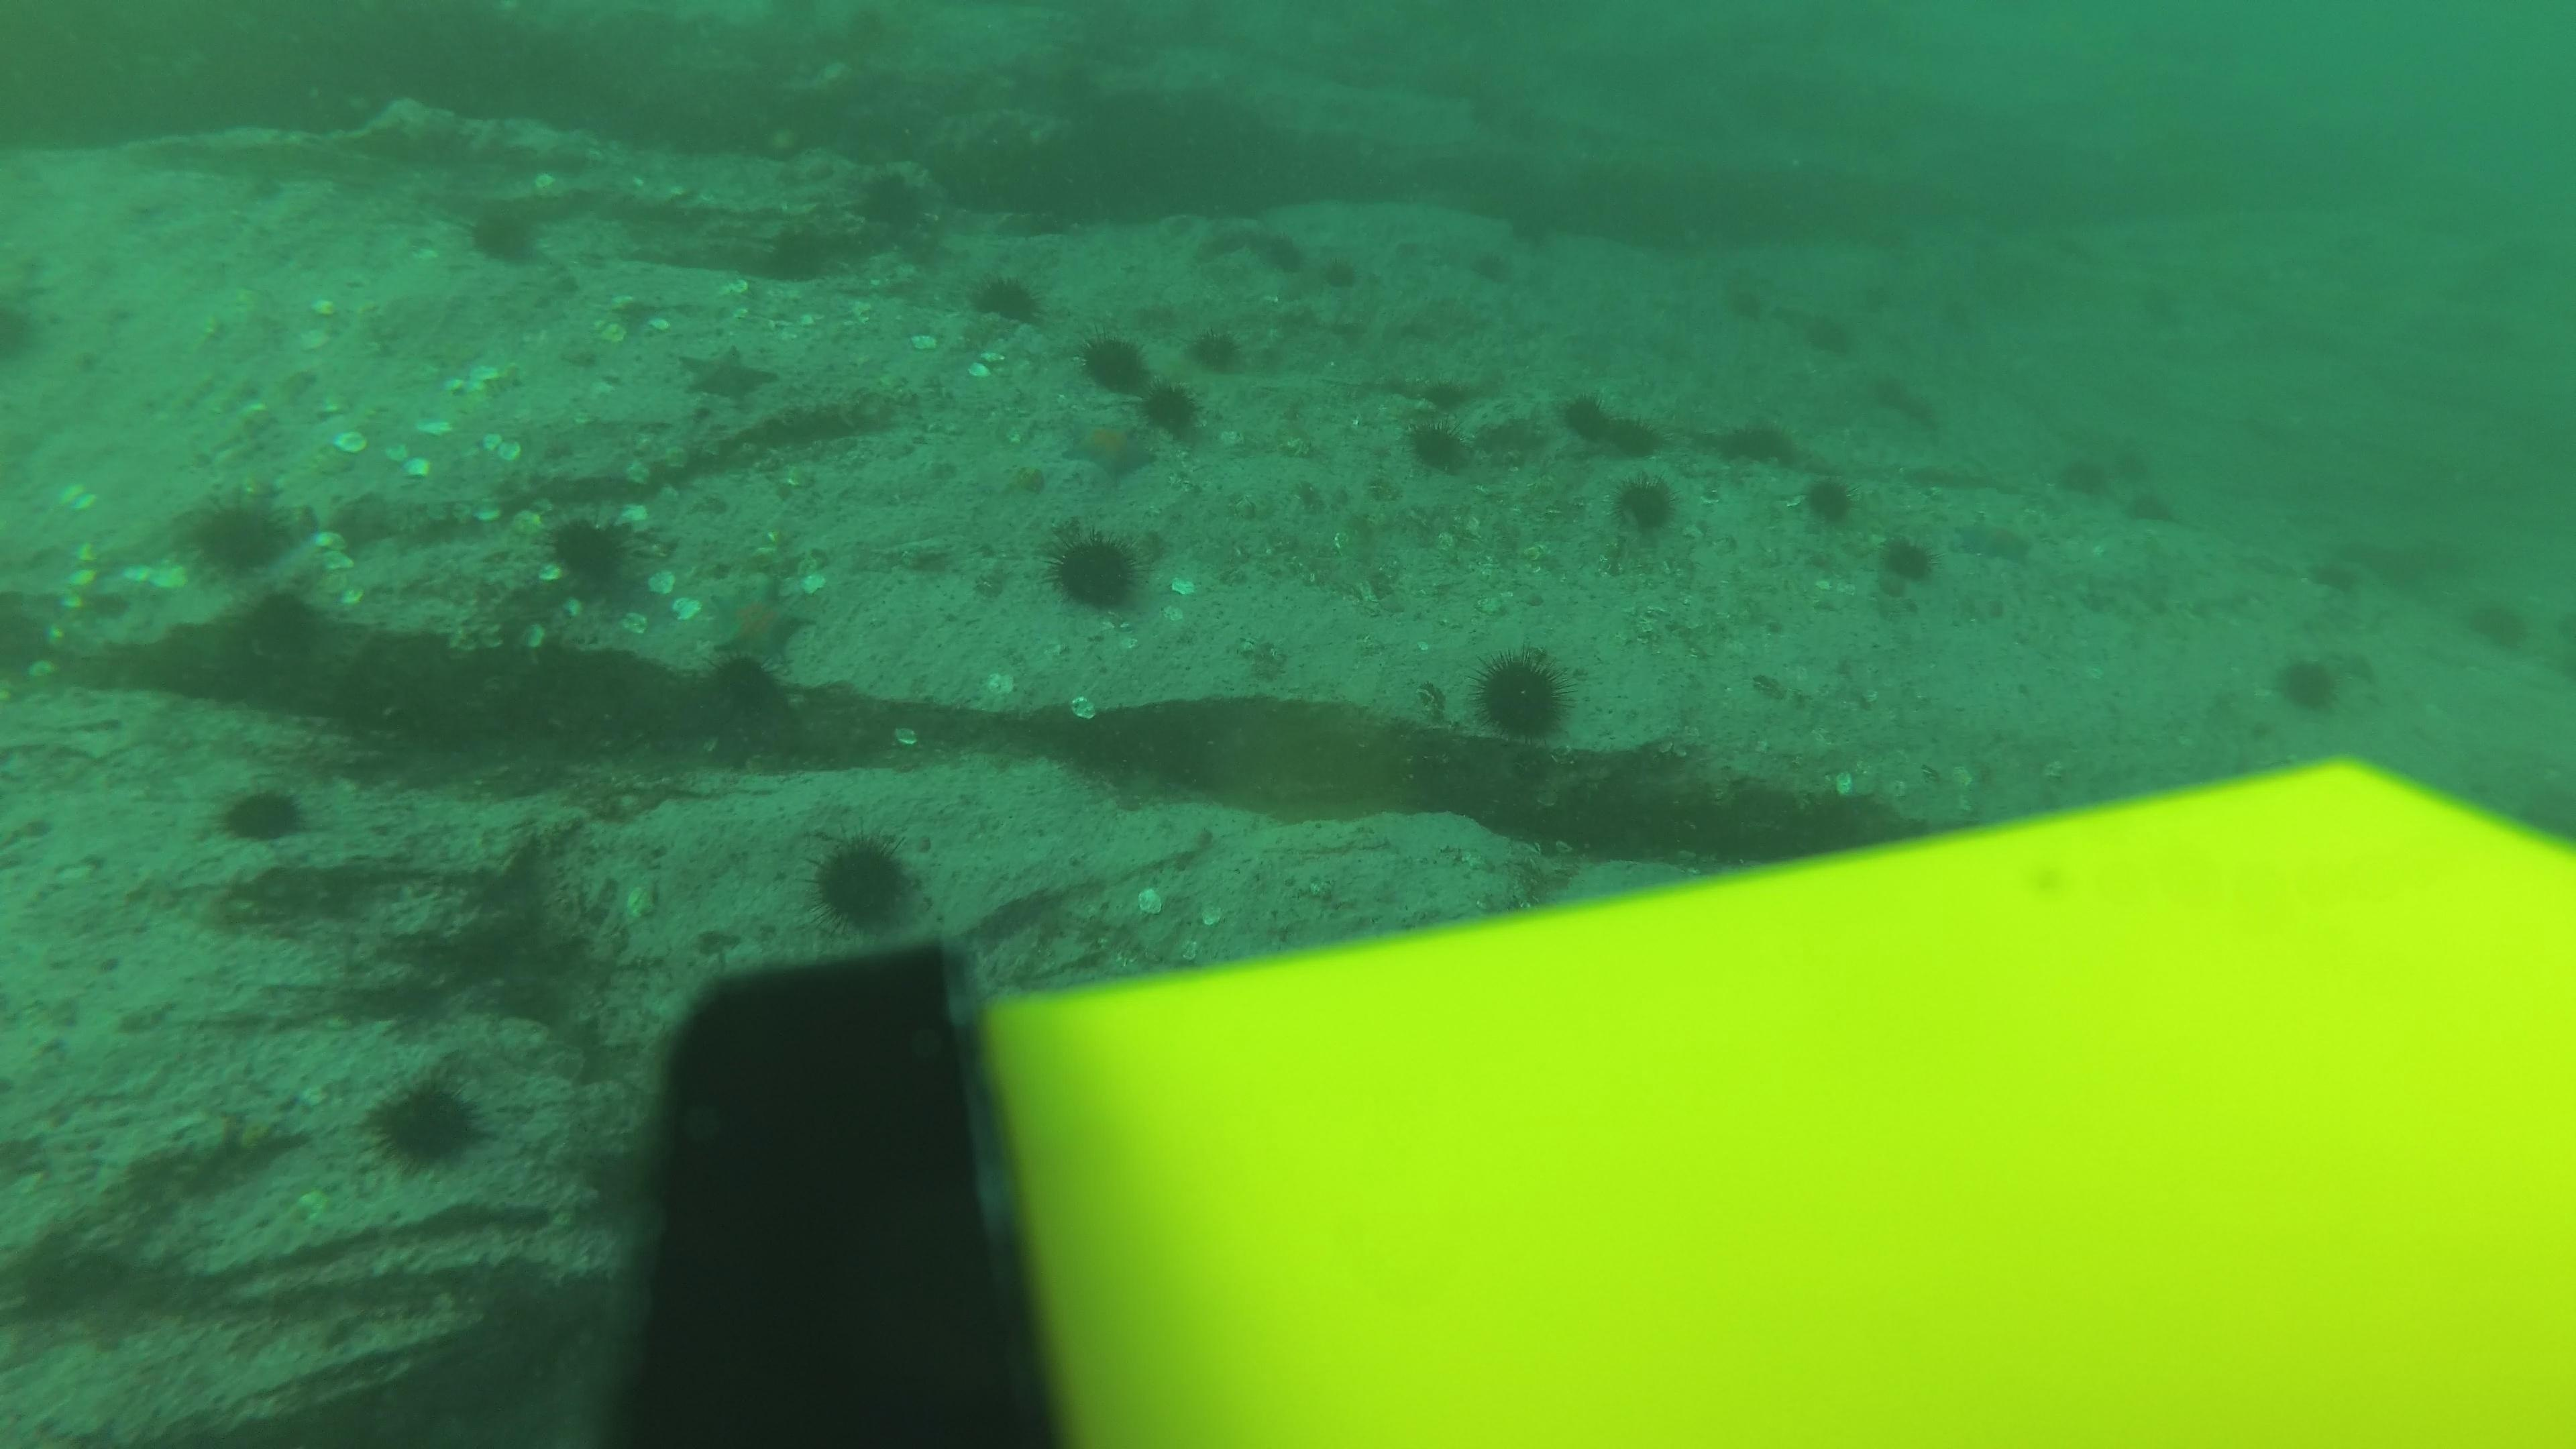echinus: (359, 1067, 494, 1180), (534, 501, 662, 612), (172, 483, 308, 586), (801, 828, 929, 938), (1465, 644, 1580, 748), (1039, 524, 1155, 621), (846, 161, 947, 248), (207, 773, 317, 853), (456, 191, 556, 272), (1598, 467, 1688, 556), (1076, 327, 1171, 407), (1123, 364, 1210, 449), (755, 212, 842, 287), (2268, 646, 2351, 720), (1396, 407, 1479, 479), (962, 265, 1049, 331), (2459, 589, 2537, 658), (1870, 529, 1943, 596), (1792, 467, 1863, 533), (708, 649, 782, 709), (1180, 320, 1249, 380), (1603, 410, 1661, 462), (1562, 391, 1621, 442), (1730, 421, 1792, 469), (1801, 311, 1854, 354), (1886, 386, 1939, 426), (2105, 441, 2158, 481), (1725, 287, 1778, 326), (1852, 370, 1905, 409), (2056, 462, 2109, 501), (2123, 492, 2176, 531), (1258, 228, 1306, 271), (1419, 372, 1467, 414), (1472, 249, 1518, 292), (1258, 226, 1304, 269), (1500, 207, 1546, 249), (1315, 260, 1361, 303)
starfish: (699, 575, 819, 667), (1054, 409, 1166, 487), (674, 340, 782, 407), (1950, 510, 2042, 570), (2296, 552, 2357, 591)
